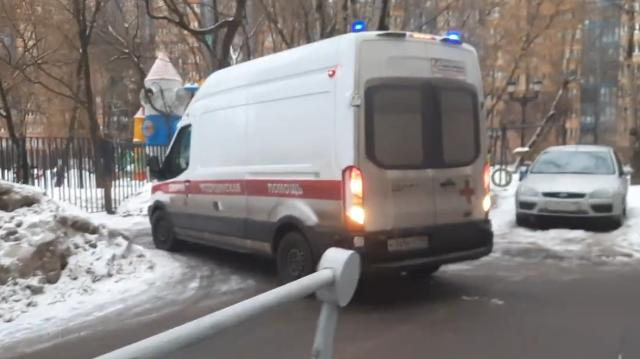ambulance: (148, 23, 492, 288)
non emergency car: (517, 144, 628, 232)
